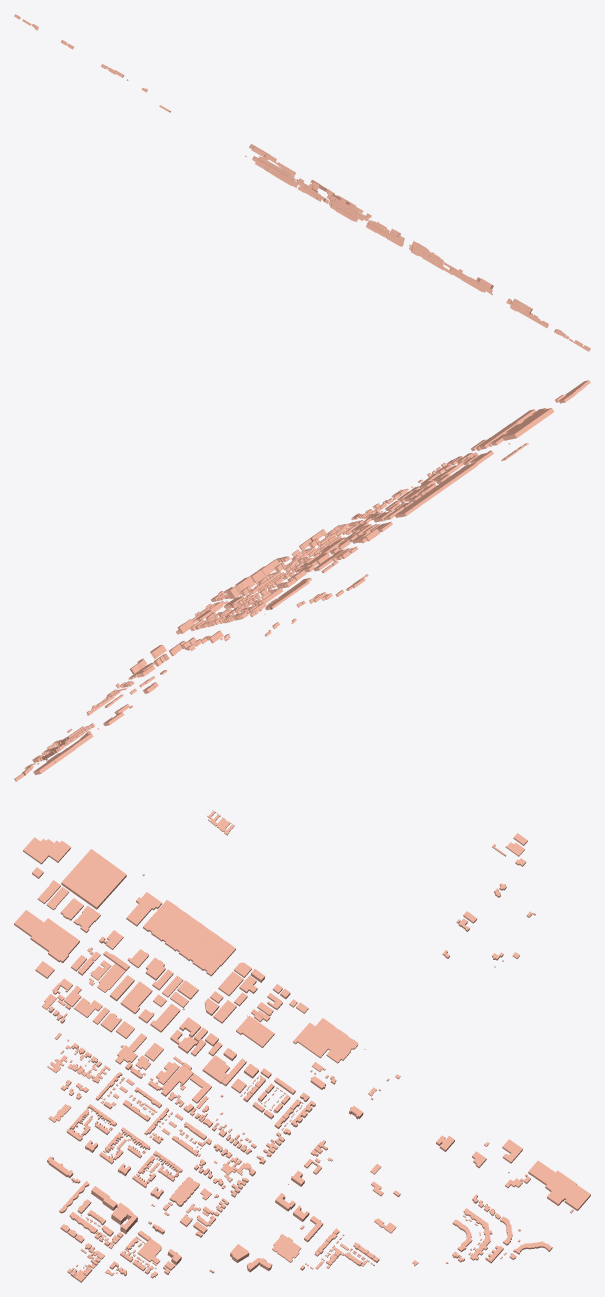
The picture shows the model from 3 angles, top to bottom: view 1: azimuth 30°, elevation 25°; view 2: azimuth 150°, elevation 25°; view 3: azimuth 270°, elevation 25°; orthographic projection. The views are drawn at different scales.
Bounding box in the file's own units: 989 × 741 × 1326.
